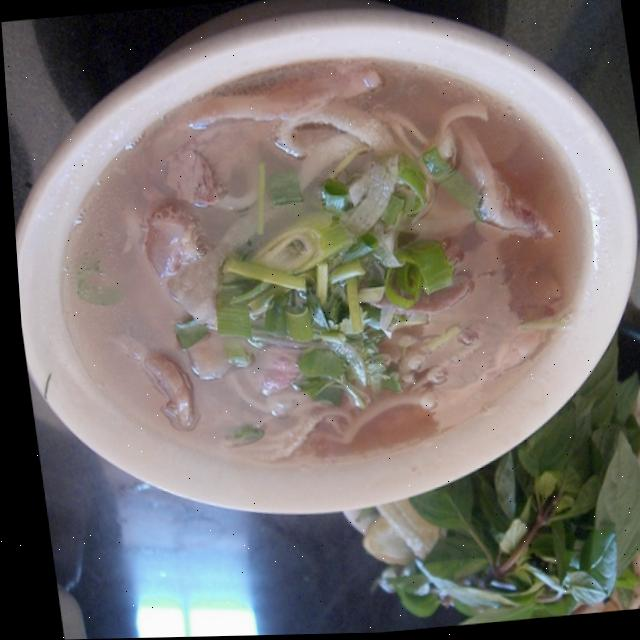面条主食: (14, 36, 637, 506)
